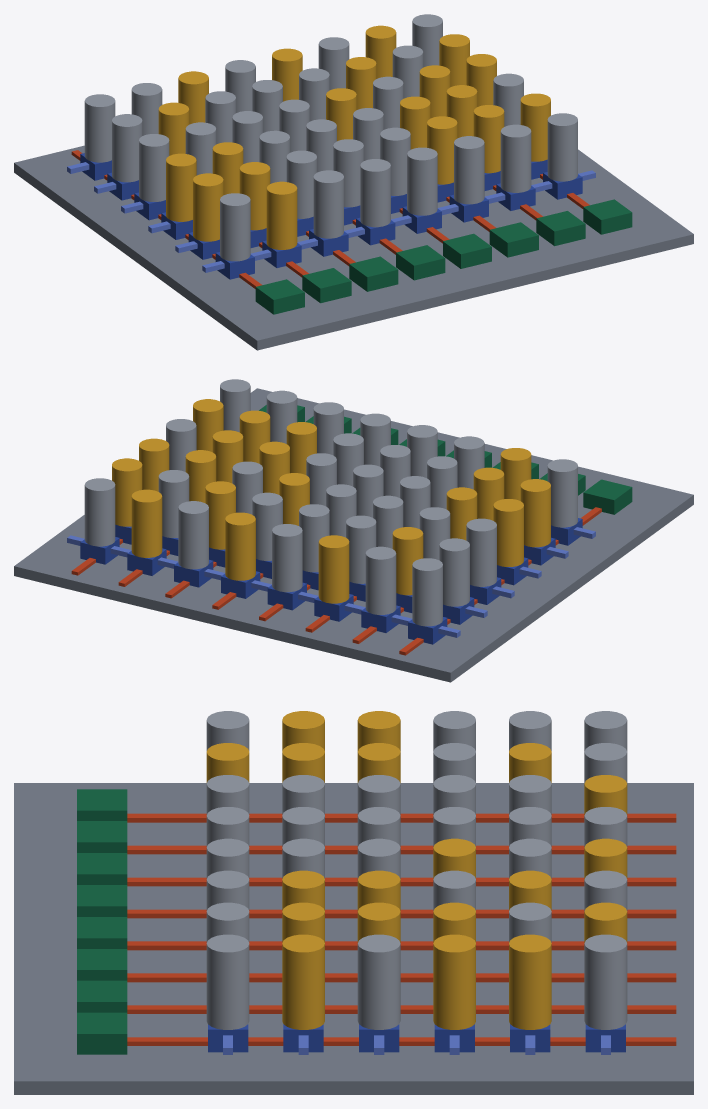
Rendered from software_dram_cell.glb.
3 renders of one model, top to bottom at view 1: azimuth 30°, elevation 25°; view 2: azimuth 150°, elevation 25°; view 3: azimuth 270°, elevation 25°, orthographic. The views are drawn at different scales.
Parts seen in each view (by area): view 1: caps_geo, silicon_geo, sa_geo, trs_geo, wl_geo, bl_geo; view 2: caps_geo, silicon_geo, trs_geo, sa_geo, wl_geo, bl_geo; view 3: silicon_geo, caps_geo, bl_geo, sa_geo, trs_geo, wl_geo.
Boxes of the visible parts, x1,y1,x2,y2 form: caps_geo: (84, 14, 577, 261); silicon_geo: (14, 145, 693, 350); sa_geo: (255, 199, 632, 314); trs_geo: (80, 153, 582, 279); wl_geo: (67, 162, 595, 272); bl_geo: (71, 150, 589, 288); caps_geo: (84, 379, 577, 626); silicon_geo: (14, 388, 693, 682); trs_geo: (80, 518, 582, 644); sa_geo: (259, 405, 632, 514); wl_geo: (67, 527, 595, 637); bl_geo: (71, 507, 601, 655); silicon_geo: (14, 783, 693, 1094); caps_geo: (206, 711, 627, 1029); bl_geo: (127, 813, 676, 1045); sa_geo: (77, 789, 127, 1054); trs_geo: (208, 1024, 625, 1052); wl_geo: (223, 1035, 610, 1054).
Bounding box in the file's own units: 2.8 × 0.5 × 2.7.
